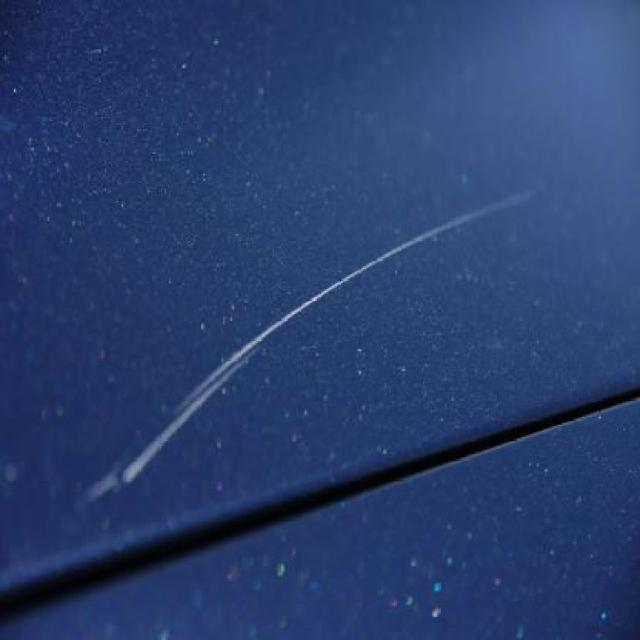scratch: (64, 180, 556, 515)
